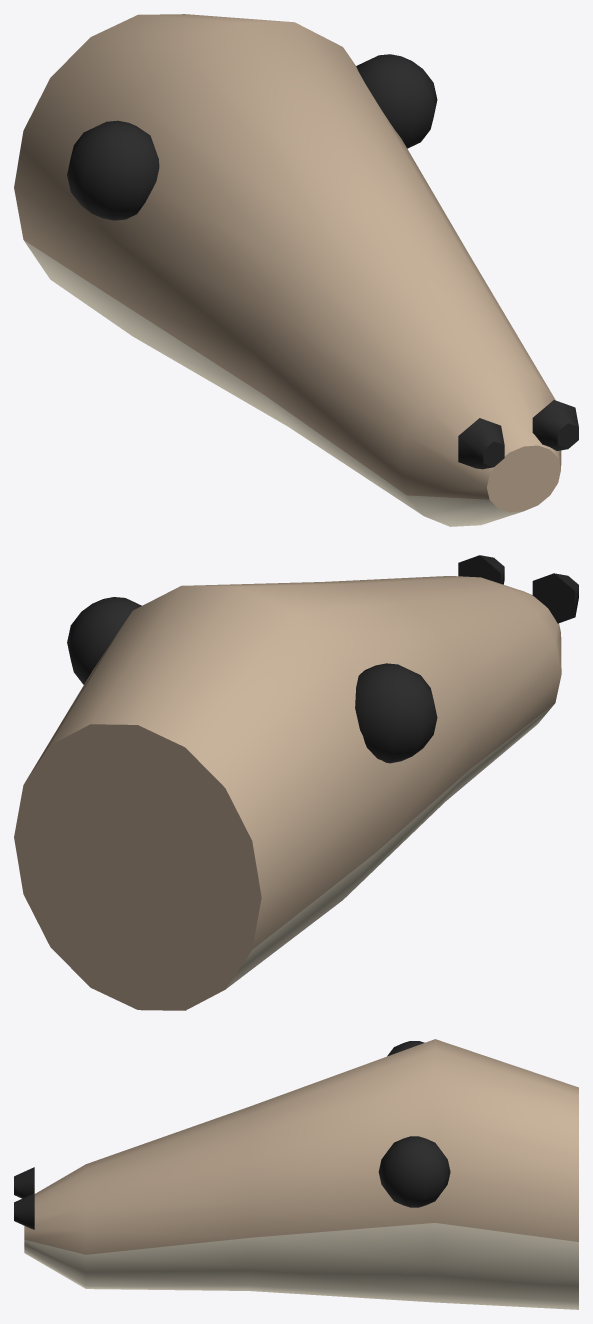
The model's file is cr_head_a.fbx.
3 renders of one model, top to bottom at view 1: azimuth 30°, elevation 25°; view 2: azimuth 150°, elevation 25°; view 3: azimuth 270°, elevation 25°, orthographic. The views are drawn at different scales.
Visible parts, largest first — view 1: Head; view 2: Head; view 3: Head.
Part boxes in pixels (x1,y1,x2,y2): Head: (14,14,578,526); Head: (14,555,578,1010); Head: (14,1039,578,1309).
Size of the model in its own units: 0.2866 by 0.27 by 0.55.
